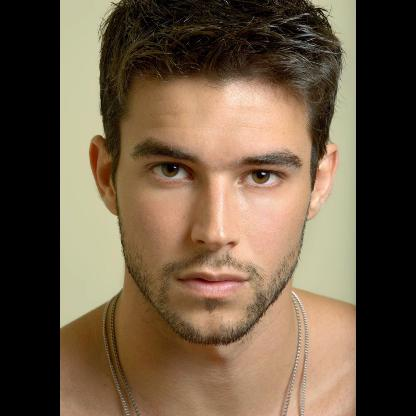Male: (88, 75, 336, 344)
